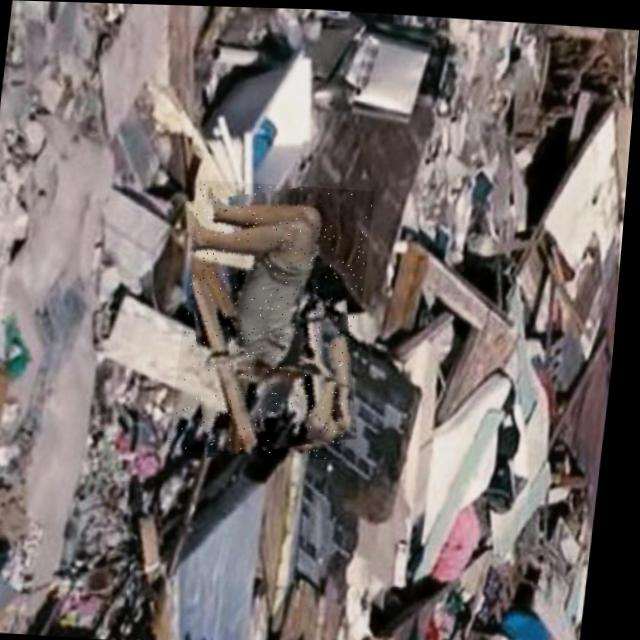Person in Rubble: (174, 178, 377, 458)
